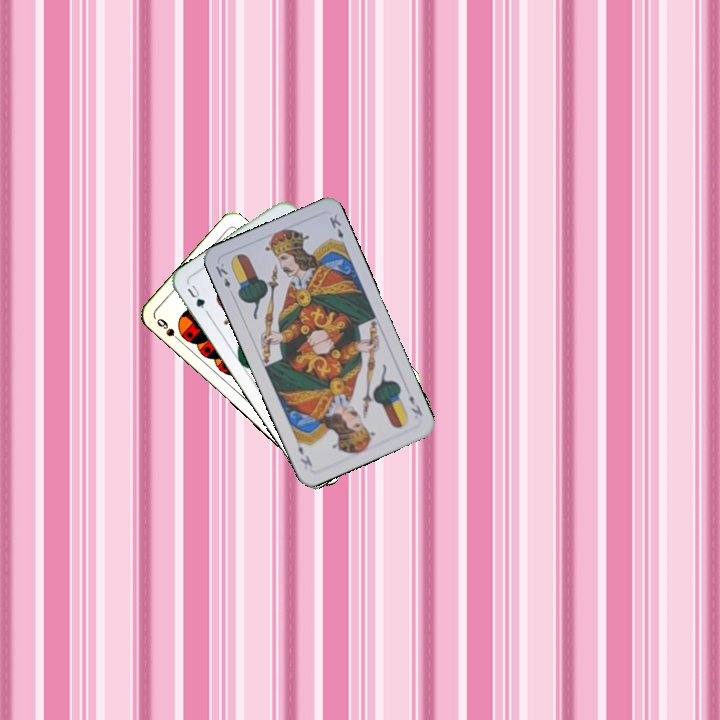EK: (211, 259, 233, 291), (405, 391, 425, 418)
GU: (183, 281, 211, 316)
S9: (152, 314, 185, 346)
